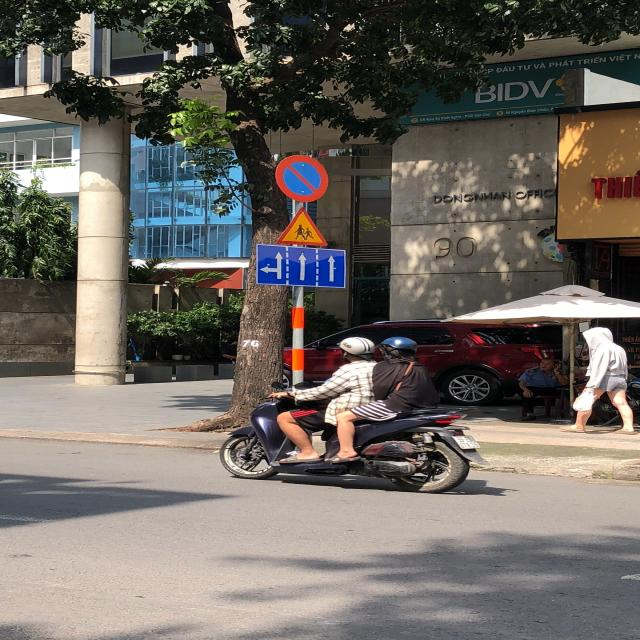Bien bao cam do xe: (268, 153, 337, 203)
Bien bao tre em: (276, 207, 331, 246)
